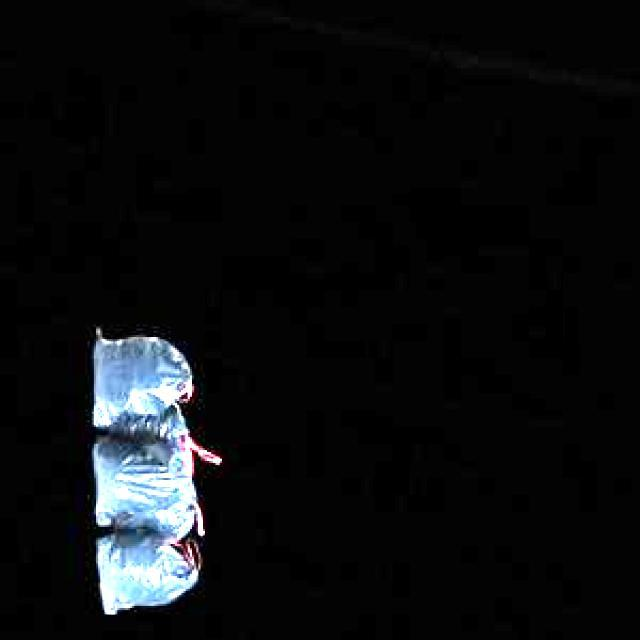Garbage_Bag: (90, 326, 194, 612)
